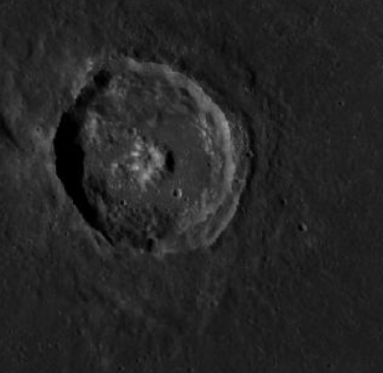crater: (16, 33, 320, 310)
